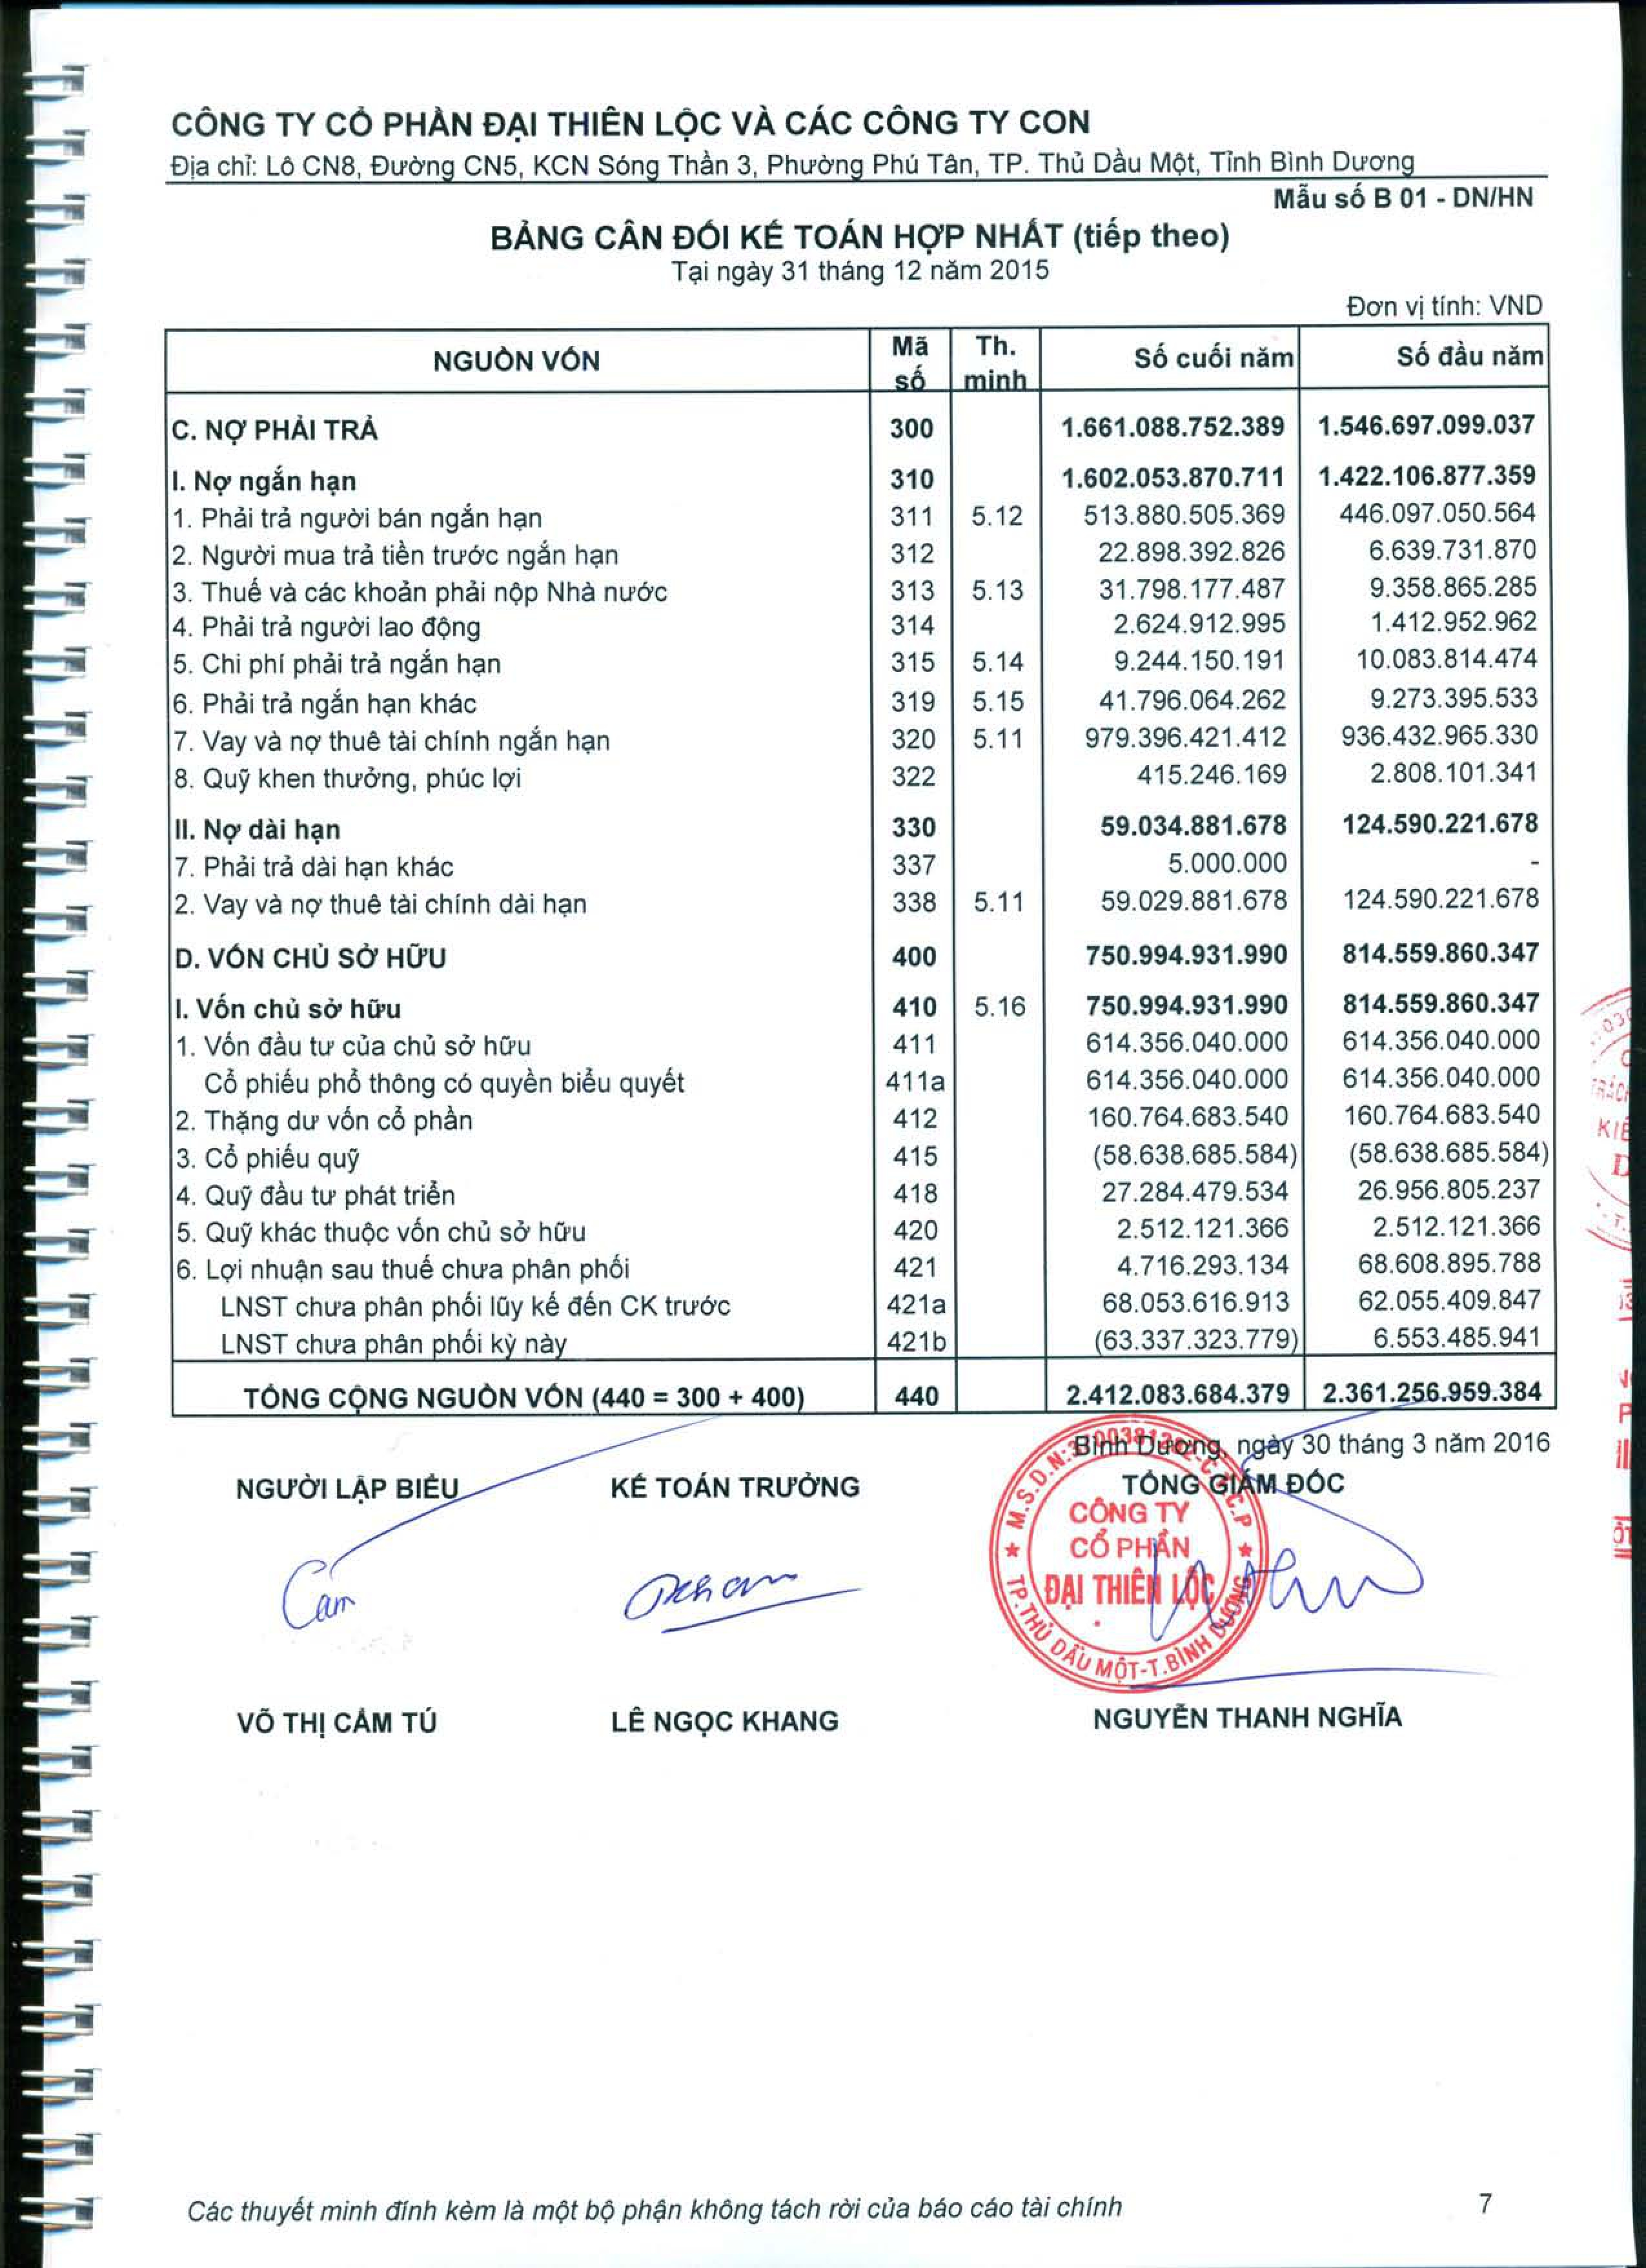table: (151, 320, 1567, 1425)
table column: (169, 320, 787, 1425), (1287, 320, 1556, 1425), (1005, 320, 1271, 1425), (820, 320, 894, 1425), (912, 320, 984, 1425)
table column header: (151, 319, 1569, 400)
table row: (151, 329, 1567, 394), (151, 407, 1567, 449), (151, 454, 1567, 497), (151, 1268, 1567, 1307), (151, 666, 1567, 701), (151, 905, 1567, 940), (151, 997, 1567, 1032), (151, 563, 1567, 597), (151, 599, 1567, 632), (151, 632, 1567, 666), (151, 703, 1567, 736), (151, 787, 1567, 821), (151, 854, 1567, 887), (151, 960, 1567, 993), (151, 1199, 1567, 1233), (151, 1233, 1567, 1266), (151, 498, 1567, 530), (151, 532, 1567, 563), (151, 738, 1567, 770), (151, 1034, 1567, 1065), (151, 1067, 1567, 1099), (151, 1099, 1567, 1130), (151, 1132, 1567, 1164), (151, 1166, 1567, 1197), (151, 1372, 1567, 1403), (151, 822, 1567, 852)
